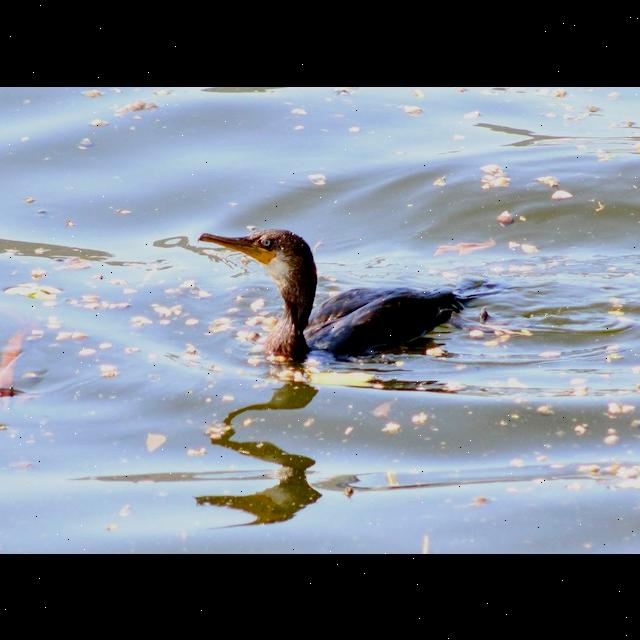cormorant: (192, 223, 480, 371)
